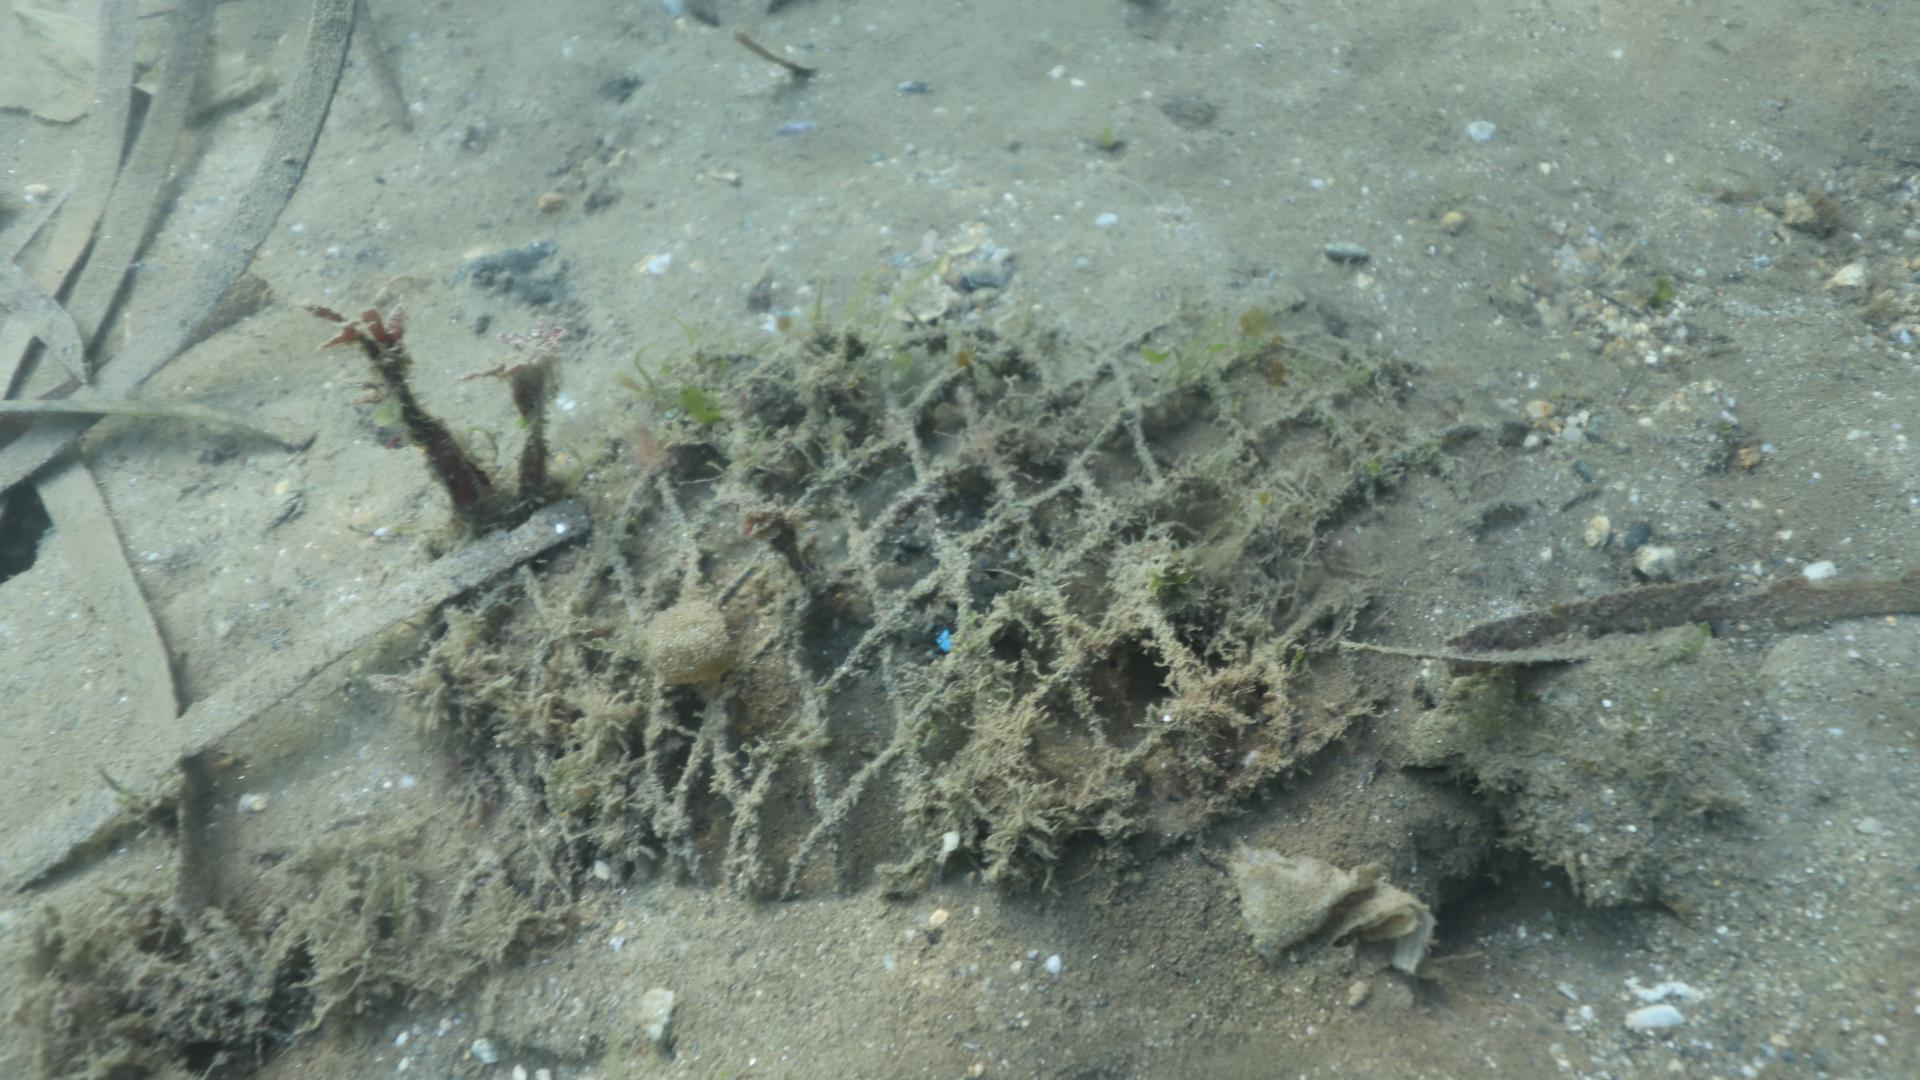fish net: (443, 307, 1476, 899)
